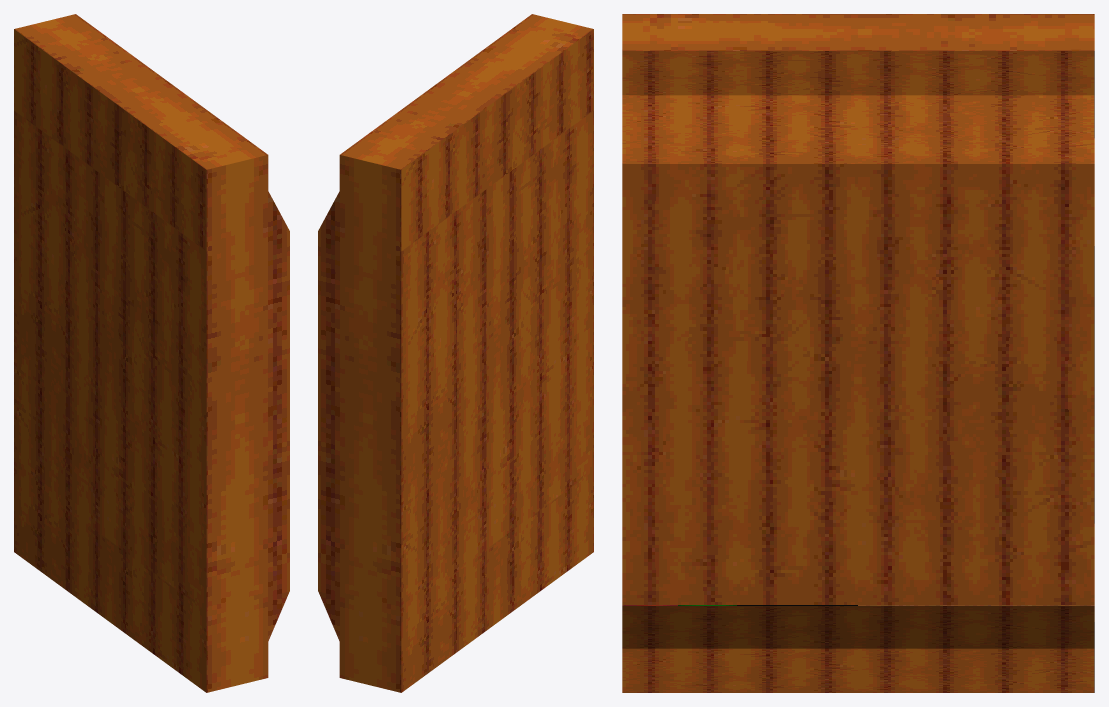
The model's file is Foam2_Fat_wall-col.glb.
3 renders of one model, left to right at view 1: azimuth 30°, elevation 25°; view 2: azimuth 150°, elevation 25°; view 3: azimuth 270°, elevation 25°, orthographic. The views are drawn at different scales.
Visible parts, largest first — view 1: Foam2_Fat_wall-col; view 2: Foam2_Fat_wall-col; view 3: Foam2_Fat_wall-col.
Part boxes in pixels (<box>): Foam2_Fat_wall-col: <box>14,14,289,692</box>; Foam2_Fat_wall-col: <box>318,14,593,692</box>; Foam2_Fat_wall-col: <box>622,14,1094,692</box>.
Bounding box in the file's own units: 0.5 × 3 × 2.
Materials: 1 (1 with a texture image).
